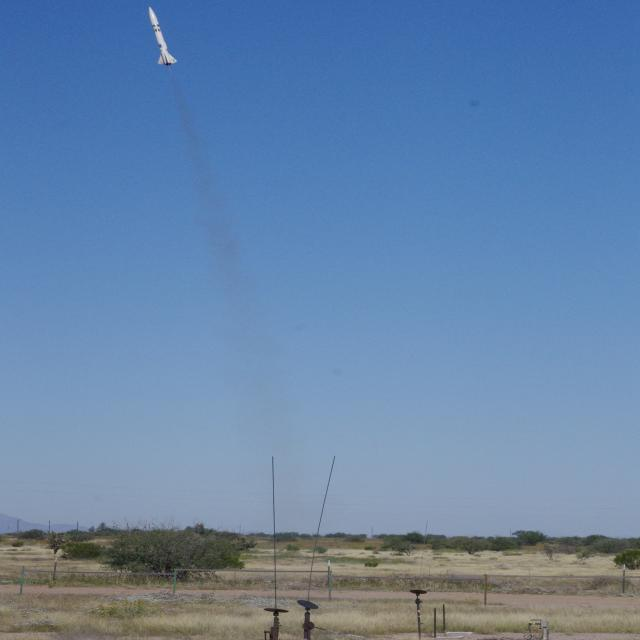Rocket: (148, 6, 178, 66)
